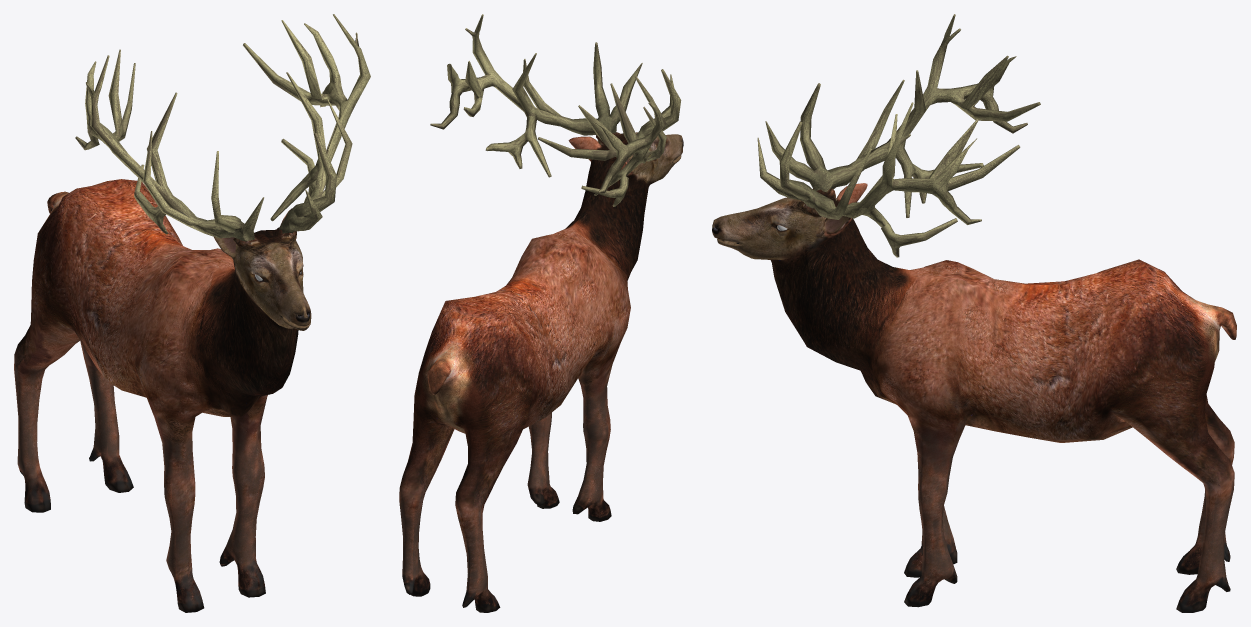
Rendered from deer1.obj.
The picture shows the model from 3 angles, left to right: view 1: azimuth 30°, elevation 25°; view 2: azimuth 150°, elevation 25°; view 3: azimuth 270°, elevation 25°; orthographic projection. The views are drawn at different scales.
Parts seen in each view (by area): view 1: Body_Cylinder, Horns_Cylinder.003, Head_Cylinder.002; view 2: Body_Cylinder, Horns_Cylinder.003, Head_Cylinder.002; view 3: Body_Cylinder, Horns_Cylinder.003, Head_Cylinder.002.
Boxes of the visible parts, x1,y1,x2,y2 form: Body_Cylinder: (14,179,298,612); Horns_Cylinder.003: (75,14,370,241); Head_Cylinder.002: (214,208,311,330); Body_Cylinder: (399,173,649,612); Horns_Cylinder.003: (430,14,681,206); Head_Cylinder.002: (568,132,683,197); Body_Cylinder: (771,231,1236,612); Horns_Cylinder.003: (757,14,1040,257); Head_Cylinder.002: (712,183,867,268).
Size of the model in its own units: 3.29 by 6.9 by 6.09.
Materials: 4 (3 with a texture image).
